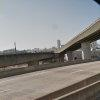Bridge: (46, 15, 100, 65)
